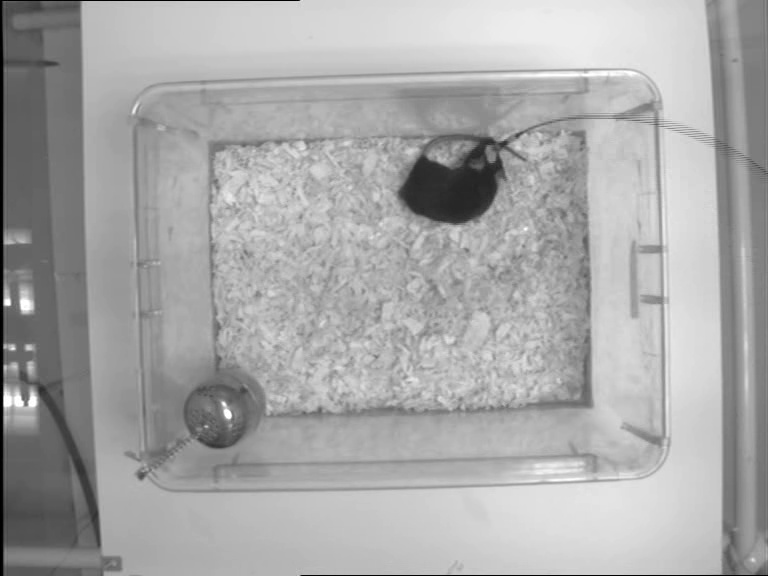mice: (397, 133, 524, 223)
